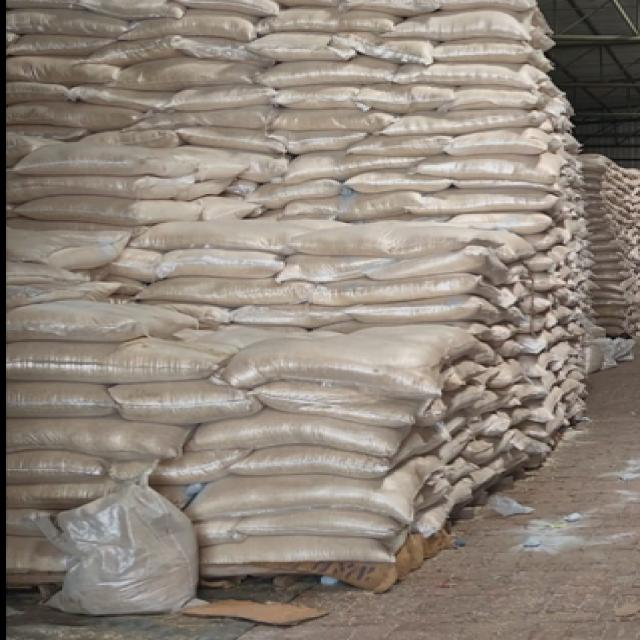Sack-2: (0, 337, 229, 385), (228, 337, 439, 387), (188, 472, 413, 514), (180, 415, 413, 455), (2, 414, 192, 459), (10, 136, 201, 176), (270, 378, 417, 427), (0, 300, 179, 340), (104, 53, 264, 95), (124, 377, 254, 426), (134, 274, 320, 308), (192, 535, 394, 566), (134, 238, 281, 280), (6, 174, 194, 206), (121, 7, 263, 45), (0, 375, 120, 418), (237, 505, 398, 537), (234, 446, 390, 479), (396, 56, 542, 90), (138, 220, 303, 250), (389, 11, 537, 44), (0, 98, 149, 130), (296, 224, 479, 250), (256, 57, 399, 90), (2, 226, 123, 265), (387, 108, 548, 137), (0, 50, 119, 89), (368, 250, 510, 282), (409, 185, 558, 215), (277, 248, 393, 285), (0, 8, 134, 40), (281, 147, 409, 180), (305, 277, 480, 301), (420, 152, 566, 180), (338, 31, 440, 68), (444, 126, 555, 160), (0, 452, 111, 485), (418, 36, 540, 66), (375, 320, 477, 355), (251, 29, 355, 62), (271, 108, 397, 134), (143, 105, 279, 129), (22, 200, 200, 218), (2, 32, 108, 62), (336, 298, 493, 318), (0, 480, 115, 507), (0, 504, 88, 539), (88, 35, 186, 66), (226, 305, 361, 327), (263, 7, 395, 29), (447, 209, 557, 235), (360, 84, 458, 112), (178, 36, 269, 65), (270, 84, 370, 108), (435, 90, 545, 111), (74, 85, 166, 109), (257, 181, 343, 205), (170, 89, 278, 108), (0, 81, 76, 99), (414, 0, 548, 8), (442, 358, 476, 389), (455, 180, 550, 187)
